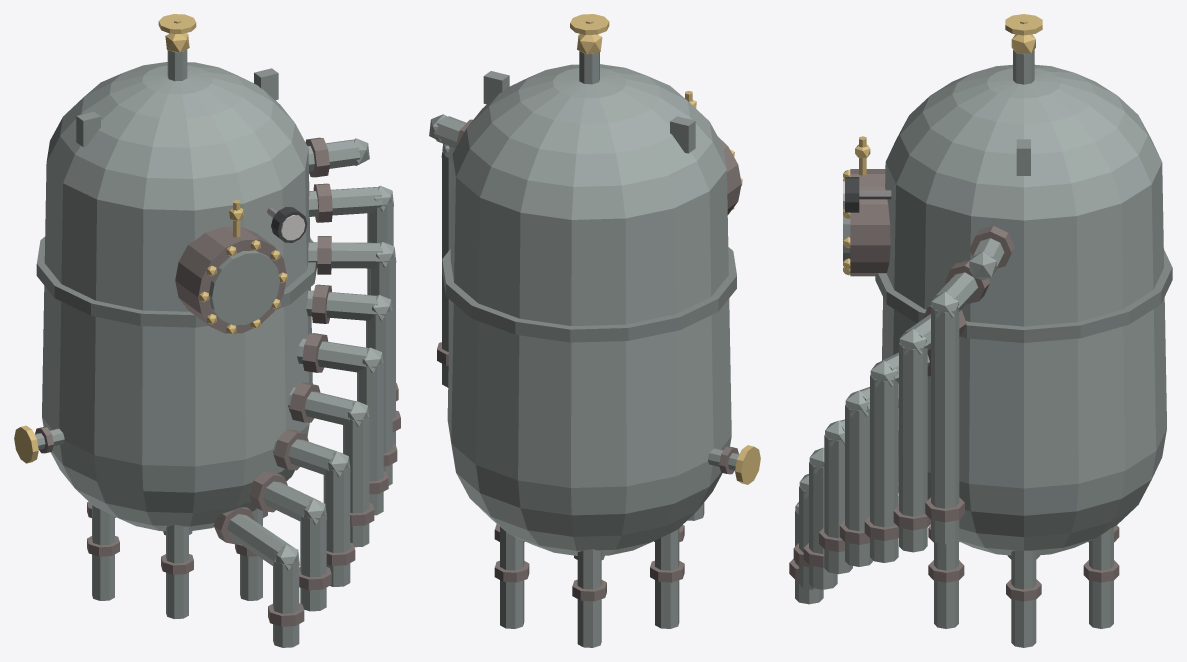
File: pressurized_vessel.glb
3 renders of one model, left to right at view 1: azimuth 30°, elevation 25°; view 2: azimuth 150°, elevation 25°; view 3: azimuth 270°, elevation 25°, orthographic. The views are drawn at different scales.
Parts seen in each view (by area): view 1: pressurized_vessel; view 2: pressurized_vessel; view 3: pressurized_vessel.
Boxes of the visible parts, x1=… form: pressurized_vessel: x1=14, y1=14, x2=400, y2=647; pressurized_vessel: x1=429, y1=14, x2=760, y2=647; pressurized_vessel: x1=789, y1=14, x2=1172, y2=647.
Bounding box in the file's own units: 2.27 × 3.6 × 2.14.
